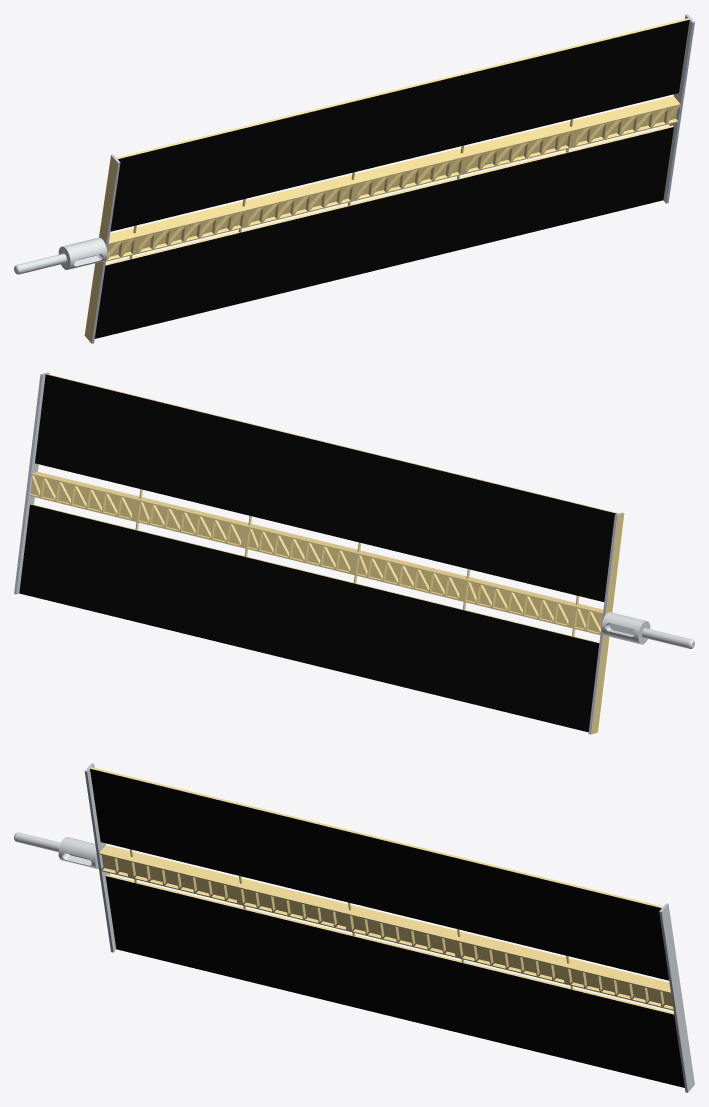
File: solarpanels_9.FBX
3 views of the same model, one above another, from view 1: azimuth 30°, elevation 25°; view 2: azimuth 150°, elevation 25°; view 3: azimuth 330°, elevation 25° (orthographic).
Visible parts, largest first — view 1: pieza N111 ISS-8-solid1; view 2: pieza N111 ISS-8-solid1; view 3: pieza N111 ISS-8-solid1.
Boxes of the visible parts, box(x1,y1,x2,y2) form: pieza N111 ISS-8-solid1: box(14, 14, 694, 343); pieza N111 ISS-8-solid1: box(14, 372, 694, 734); pieza N111 ISS-8-solid1: box(14, 763, 694, 1092).
Size of the model in its own units: 2700 by 791 by 236.
